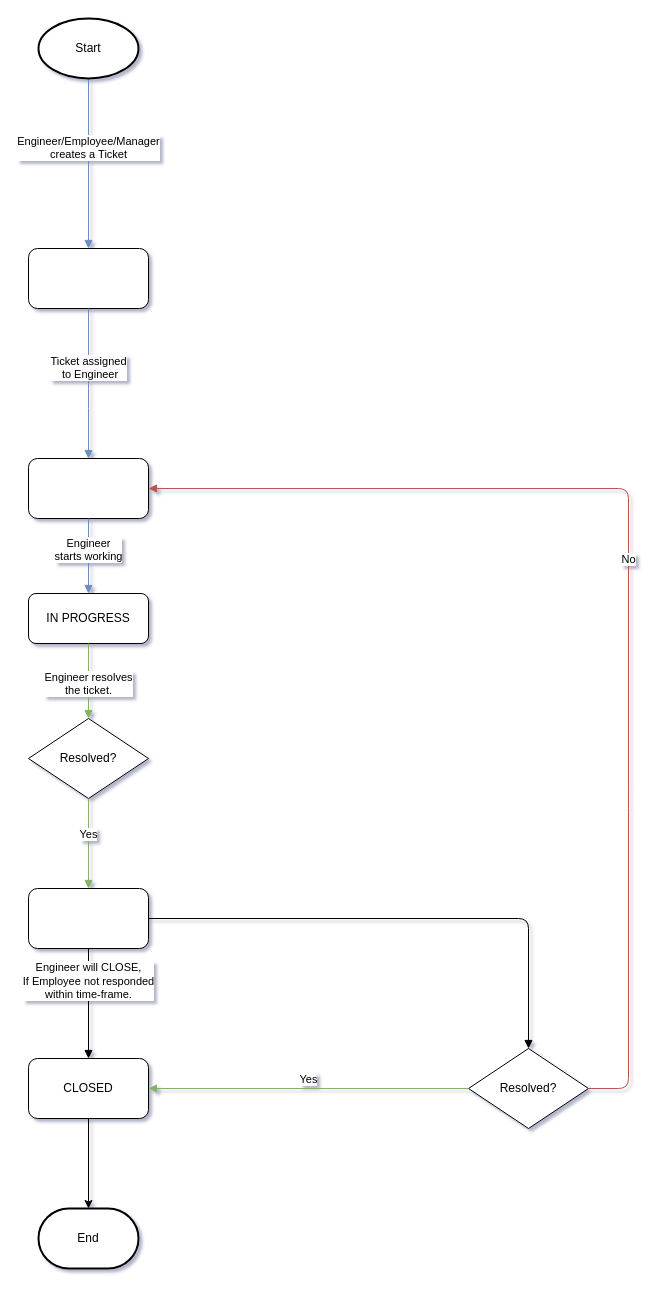
Some shapes in this 660 by 1292 pixel diagram are drawn without their labels. The shapes that lost their labels are listed below. From the top down, each one's centre as x and y in pixels, then its label:
At pixel 88 278: "NEW".
At pixel 88 488: "OPEN".
At pixel 88 918: "AWAITING RESPONSE".
